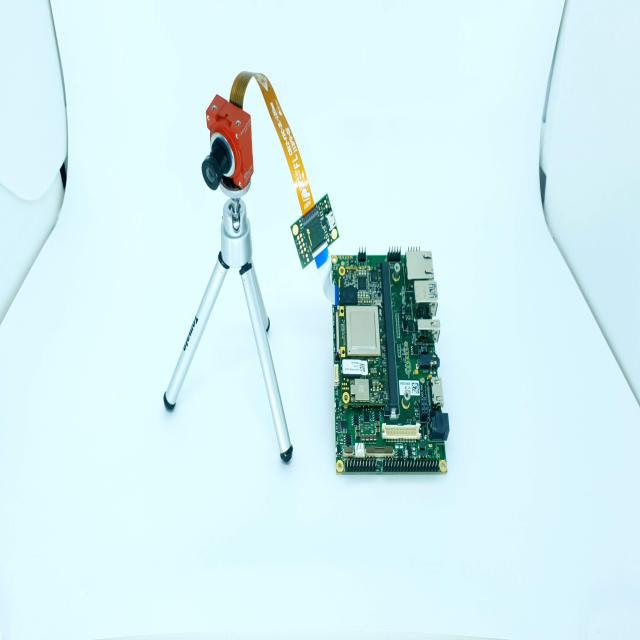som: (336, 258, 397, 417)
